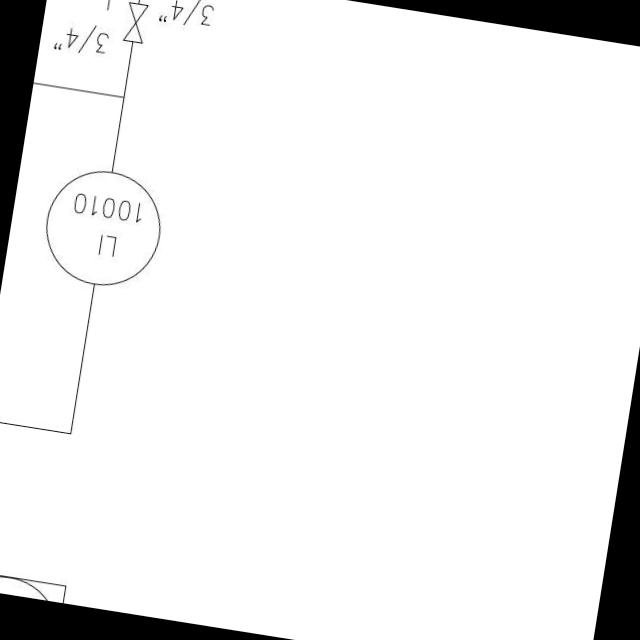GV: (116, 0, 152, 51)
